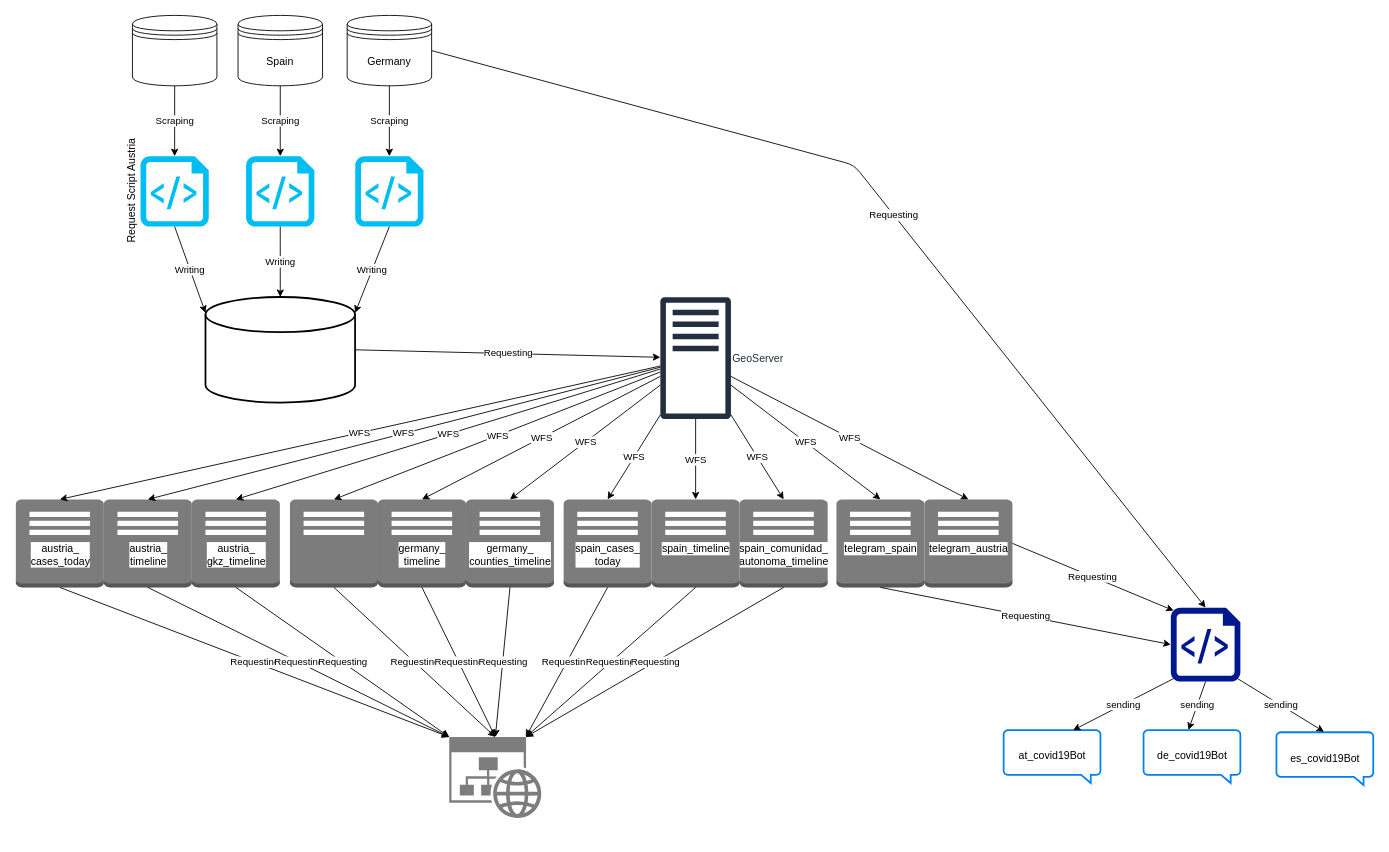
The diagram is 1389 pixels wide and 852 high, and some of its shapes have lost their labels. Each missing label, with the centre of its shape:
Austria: [174,50]
germany_ cases_today: [333,543]
human.zgis.at/coda: [495,777]
Node-Red Telegram Script: [1205,644]
PostgreSQL DBMS: [280,349]
Request Script Germany: [389,191]
Request Script Spain: [280,191]
